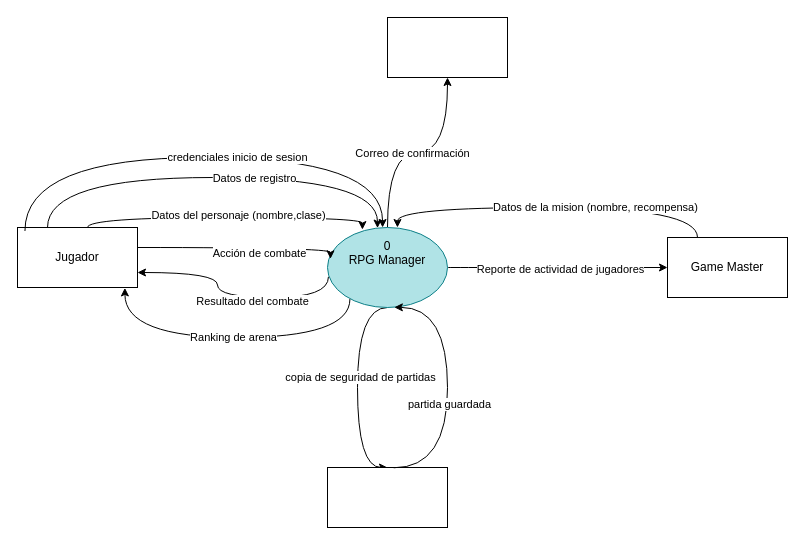
Image size: 805x545. Some labels were removed from this diagram. The shapes that lost their labels are listed below. From the top down, each one's centre as x and y in pixels, then its label:
At (x=447, y=47): "Servicio de correo".
At (x=387, y=497): "Servicio de Respaldo en la Nube".
